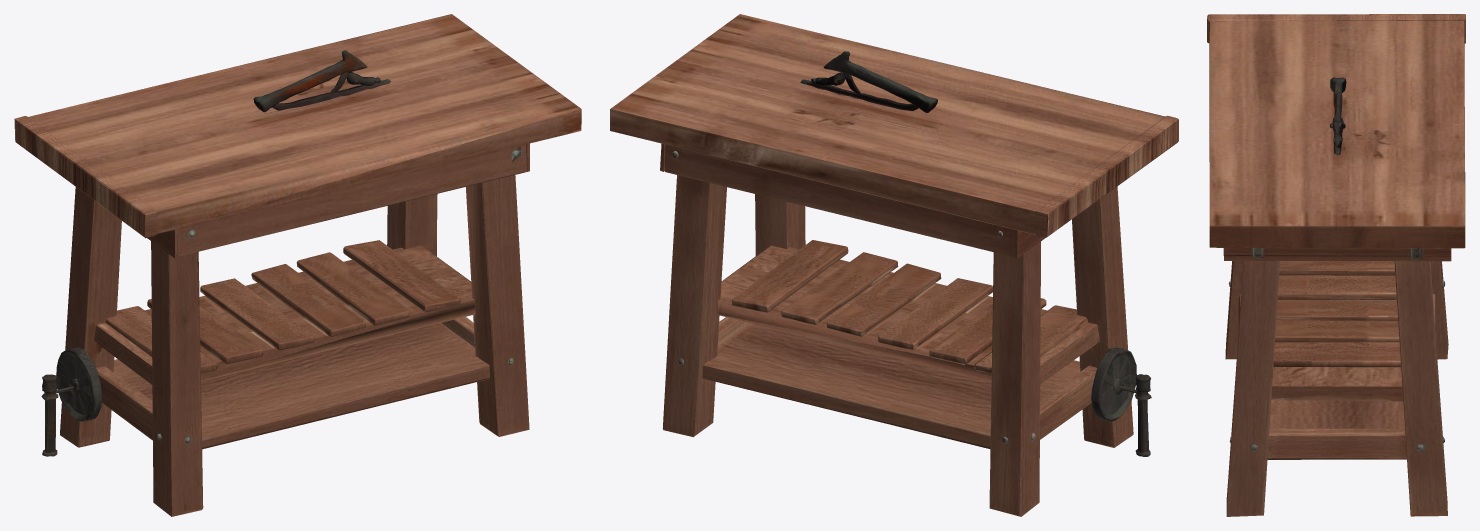
Rendered from workbench.glb.
3 renders of one model, left to right at view 1: azimuth 30°, elevation 25°; view 2: azimuth 150°, elevation 25°; view 3: azimuth 270°, elevation 25°, orthographic.
Size of the model in its own units: 1.24 by 0.92 by 0.5944.
Materials: 1 (1 with a texture image).
